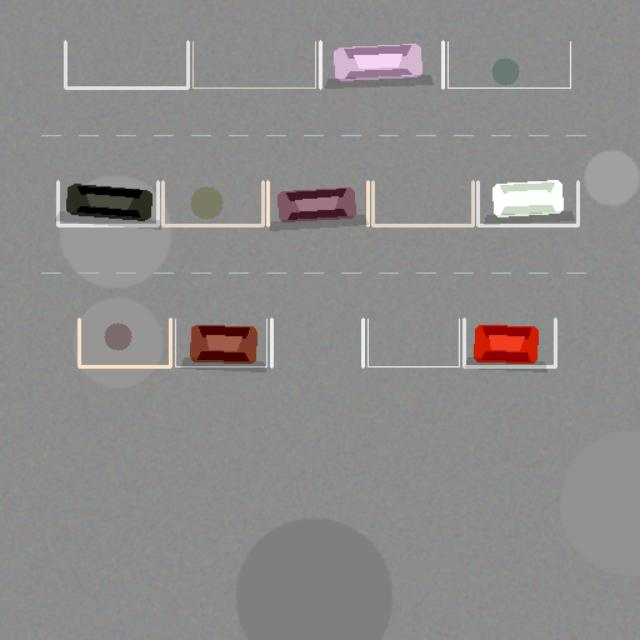space-empty: (65, 41, 188, 88), (192, 41, 315, 88), (448, 41, 570, 88), (162, 181, 262, 225), (372, 181, 472, 225), (79, 319, 170, 366), (271, 319, 362, 366), (368, 319, 459, 366)
space-occupied: (320, 41, 442, 88), (58, 181, 158, 225), (268, 181, 368, 225), (478, 181, 578, 225), (175, 319, 266, 366), (464, 319, 555, 366)
